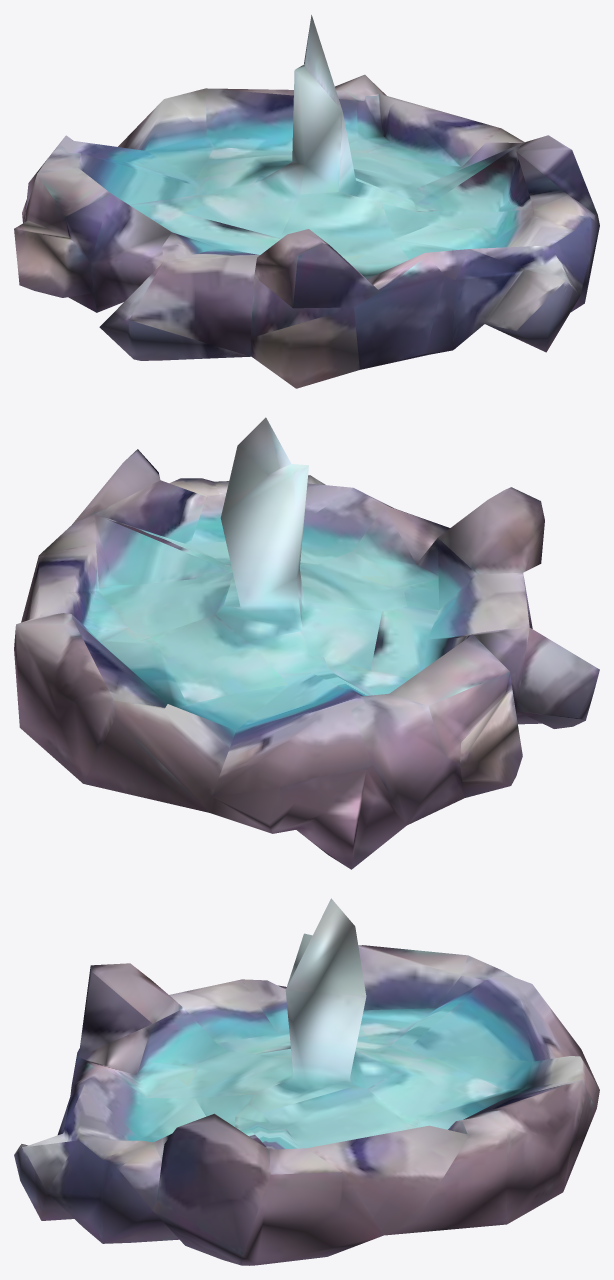
File: hot_spring.glb
The picture shows the model from 3 angles, top to bottom: view 1: azimuth 30°, elevation 25°; view 2: azimuth 150°, elevation 25°; view 3: azimuth 270°, elevation 25°; orthographic projection. The views are drawn at different scales.
Parts seen in each view (by area): view 1: tripo_node_5f3b3afb-761c-479f-85cd-b6e504000544; view 2: tripo_node_5f3b3afb-761c-479f-85cd-b6e504000544; view 3: tripo_node_5f3b3afb-761c-479f-85cd-b6e504000544.
Part boxes in pixels (x1=…): tripo_node_5f3b3afb-761c-479f-85cd-b6e504000544: x1=14, y1=15, x2=599, y2=388; tripo_node_5f3b3afb-761c-479f-85cd-b6e504000544: x1=14, y1=417, x2=599, y2=869; tripo_node_5f3b3afb-761c-479f-85cd-b6e504000544: x1=14, y1=898, x2=599, y2=1265.
Bounding box in the file's own units: 0.9216 × 0.5341 × 0.9568.
Materials: 1 (1 with a texture image).
